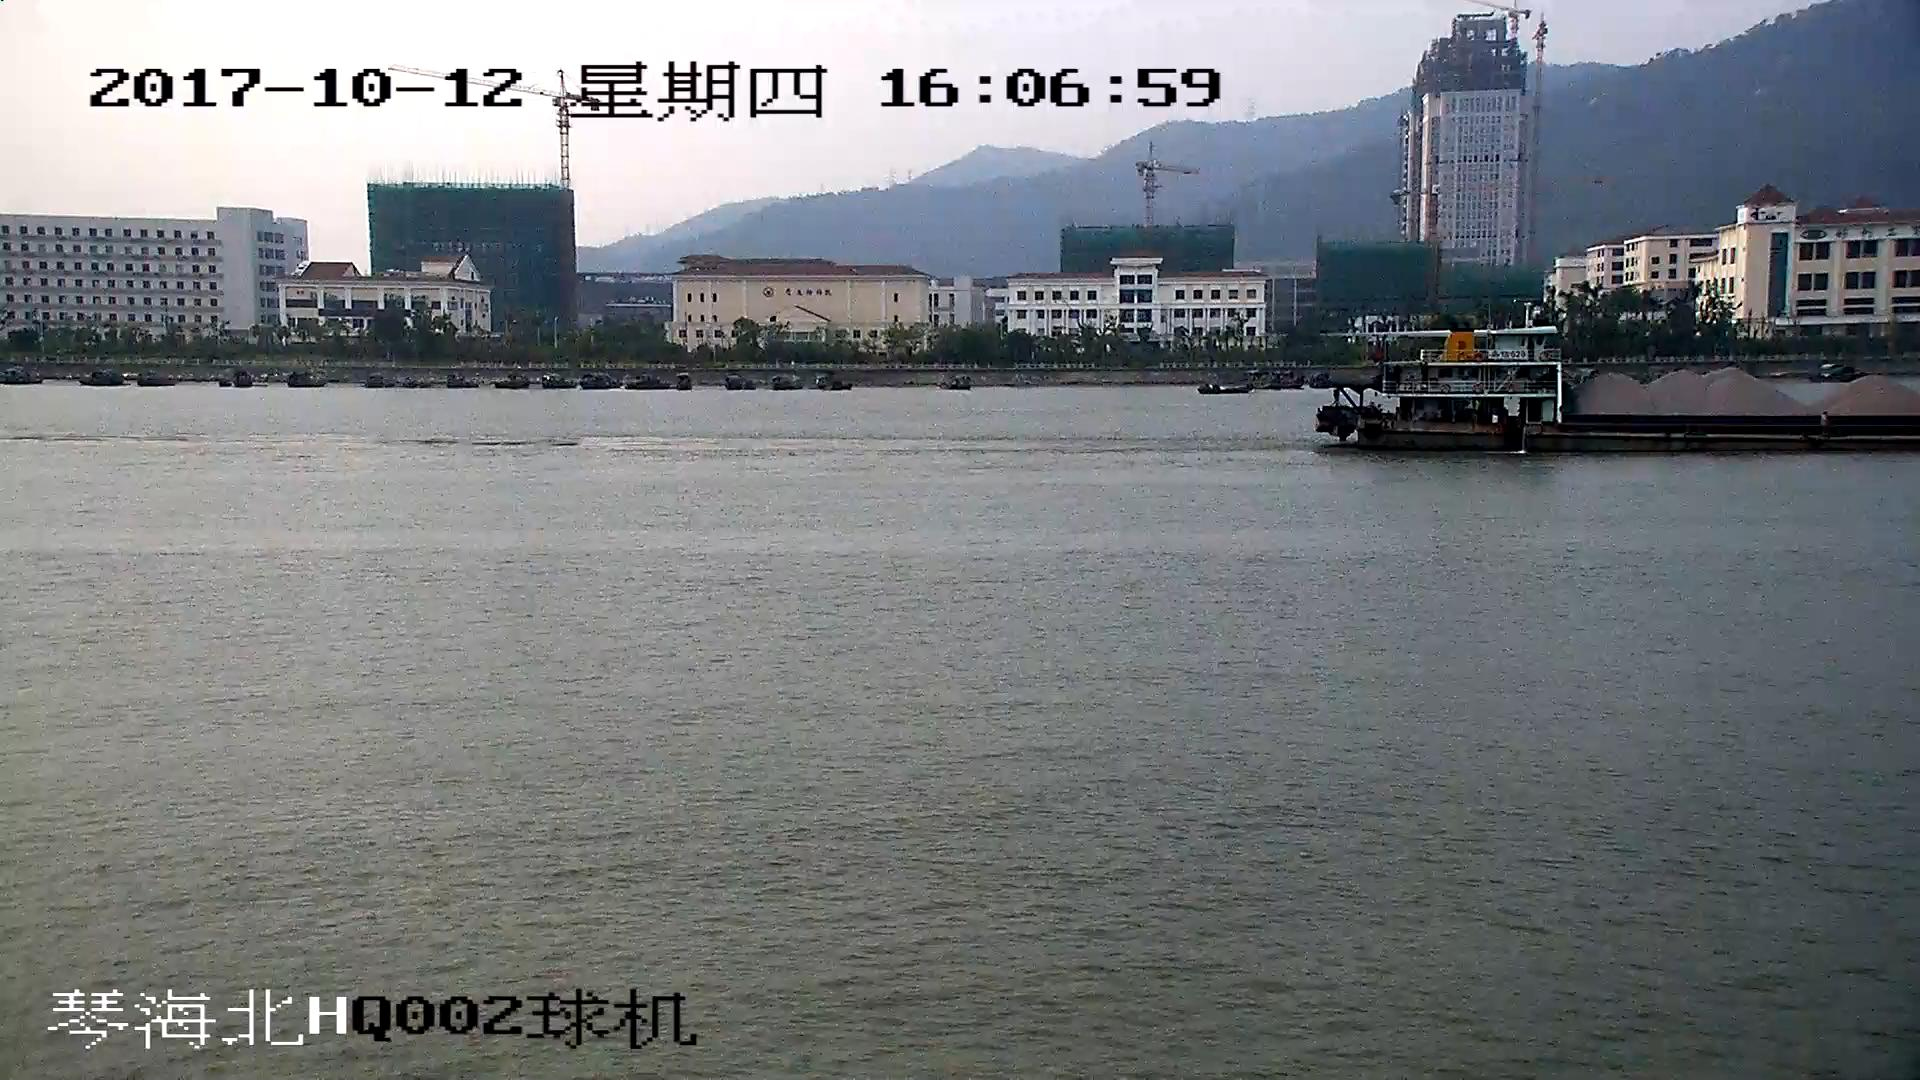ore carrier: (1331, 336, 1920, 456)
